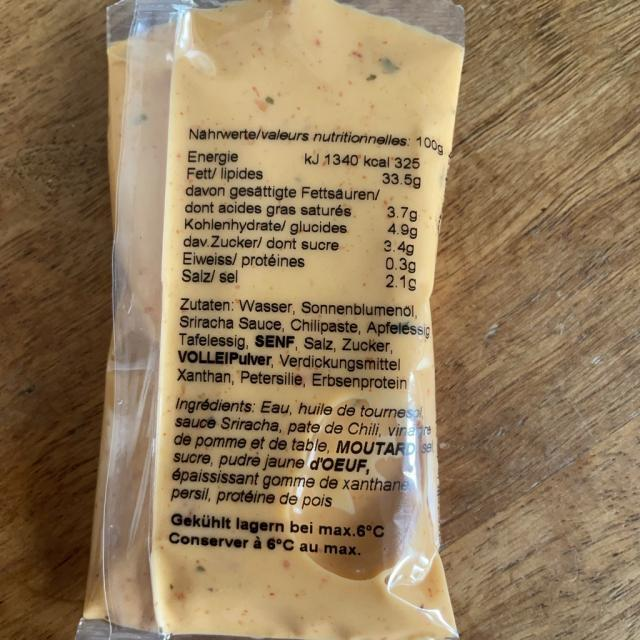mayonnaise: (85, 41, 455, 628)
